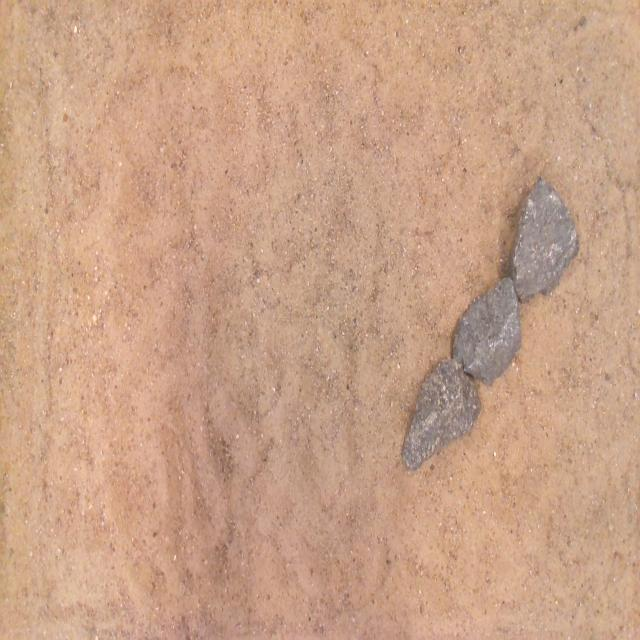rock: (507, 177, 579, 300), (403, 359, 480, 470), (453, 279, 521, 385)
